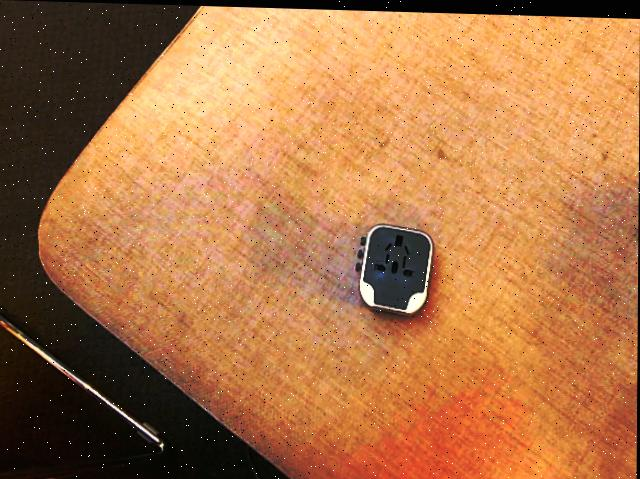adapter: (355, 221, 434, 314)
